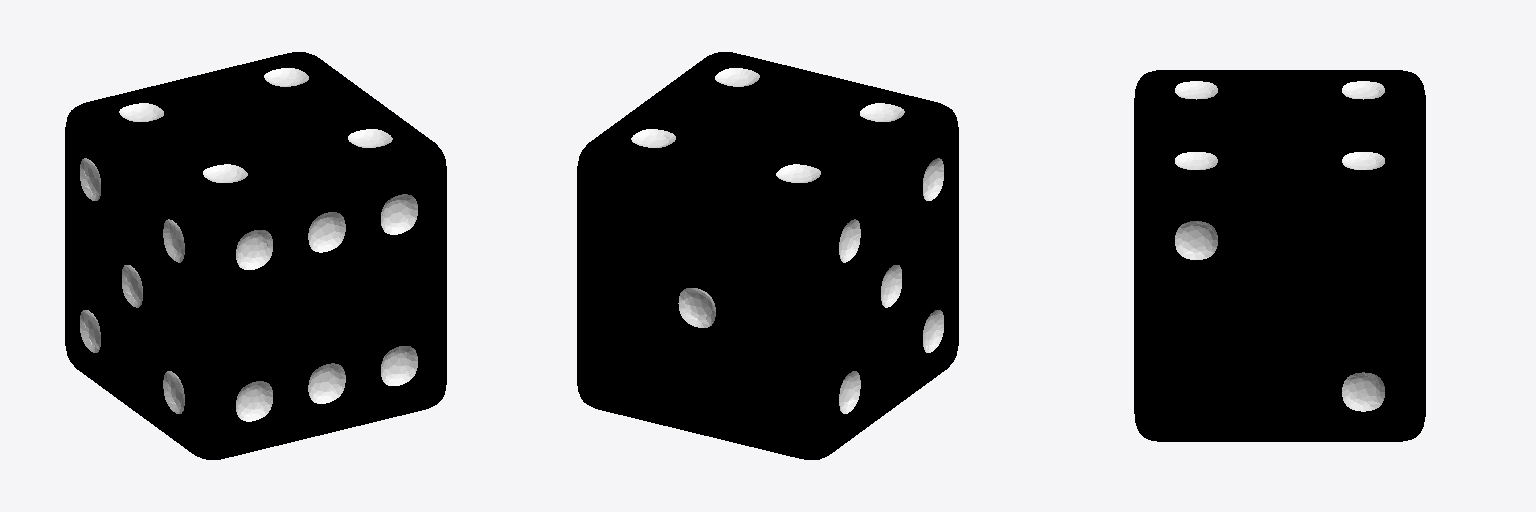
Rendered from BlackDice.obj.
3 renders of one model, left to right at view 1: azimuth 30°, elevation 25°; view 2: azimuth 150°, elevation 25°; view 3: azimuth 270°, elevation 25°, orthographic.
Visible parts, largest first — view 1: Dice_Black_Pivot.002; view 2: Dice_Black_Pivot.002; view 3: Dice_Black_Pivot.002.
Boxes of the visible parts, x1=… form: Dice_Black_Pivot.002: x1=65, y1=52, x2=446, y2=459; Dice_Black_Pivot.002: x1=577, y1=52, x2=958, y2=459; Dice_Black_Pivot.002: x1=1134, y1=70, x2=1425, y2=441.
Bounding box in the file's own units: 1.82 × 1.82 × 1.82.